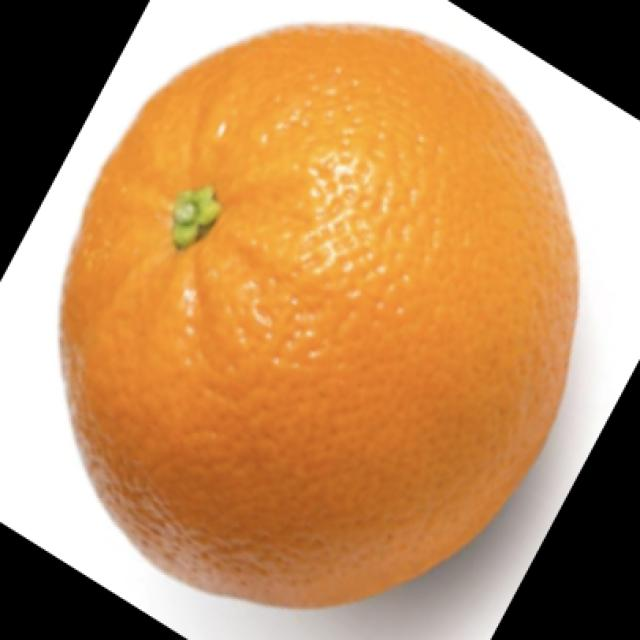matang: (55, 21, 580, 614)
